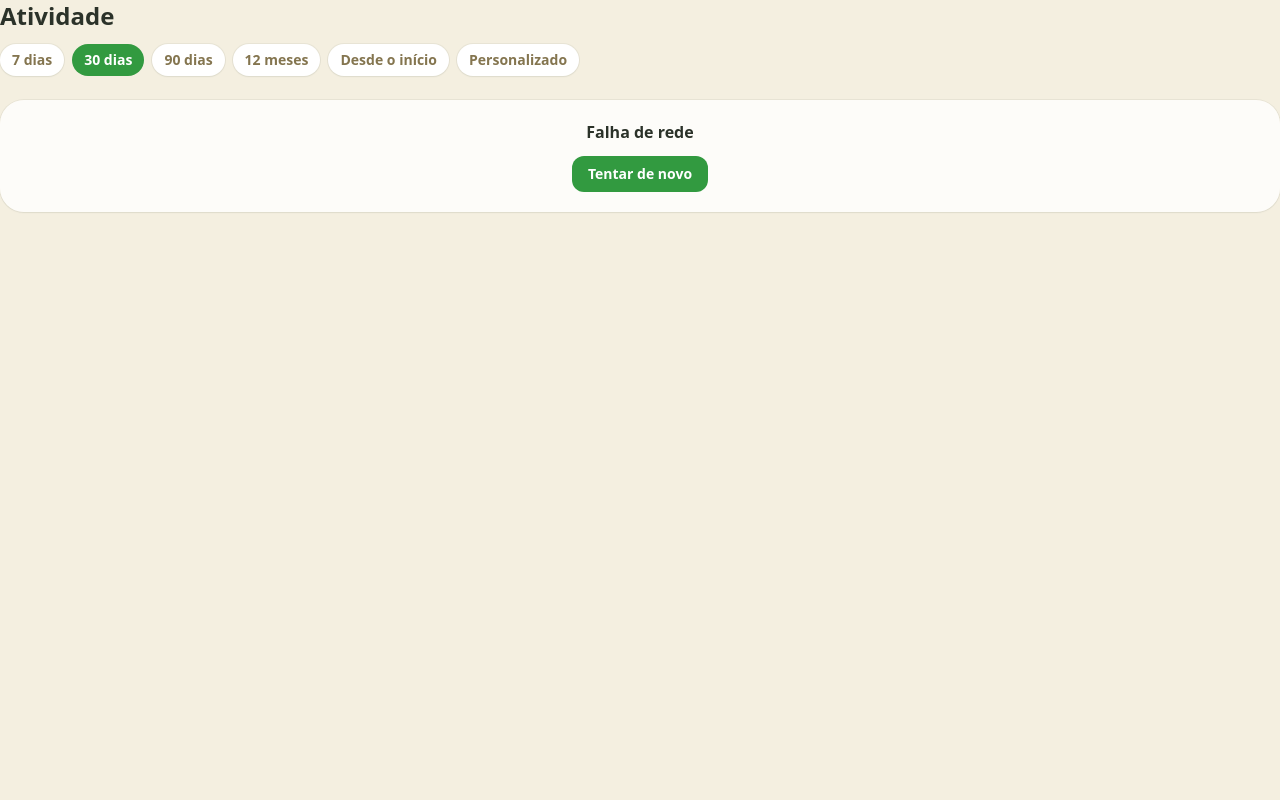
it: ActivityPanel › offers a retry when loading fails
The image size is (1280, 800).
Expected: the text "Falha de rede" is shown, [586,121,694,143]
What coordinates should you click on to do the following:
click the button "Tentar de novo"
I would click on:
 (640, 174)
Its box is [572,156,708,192].
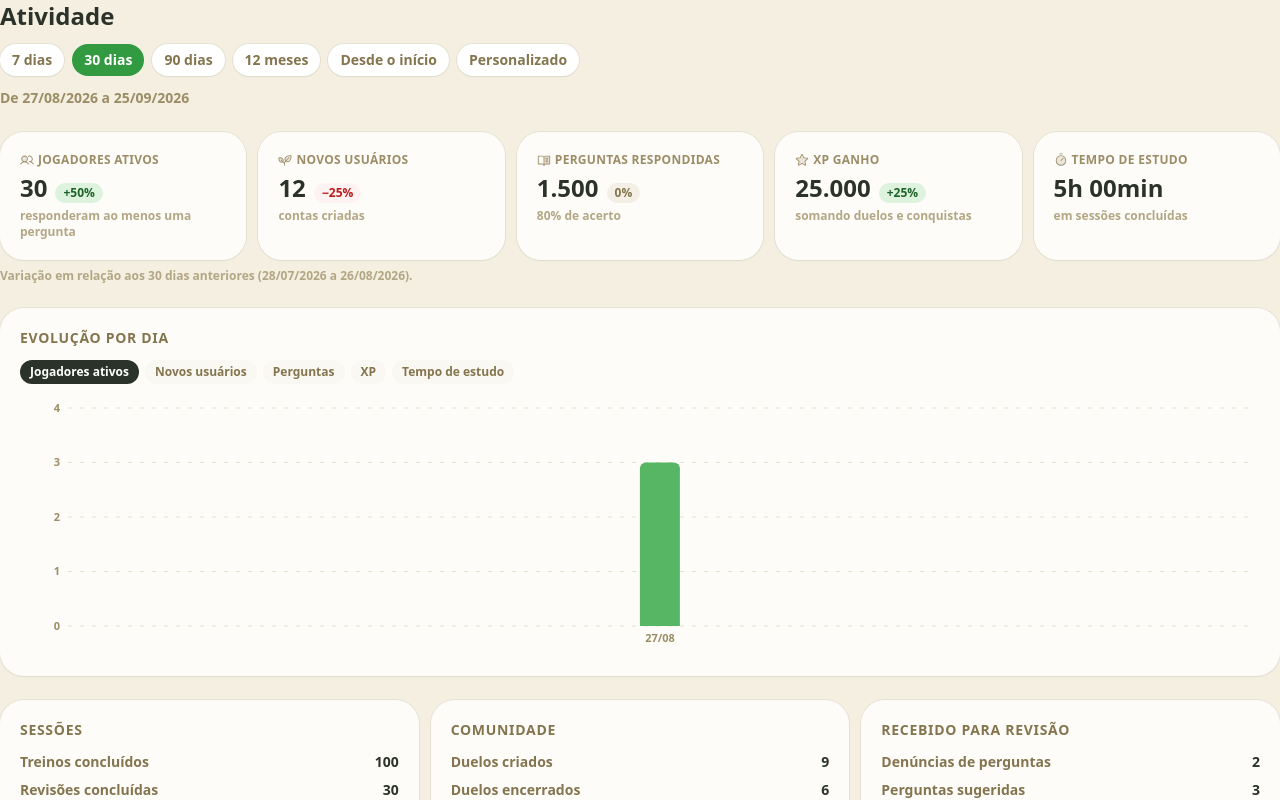
Expected: the element "Jogadores ativos" is shown, [20,151,191,240]
